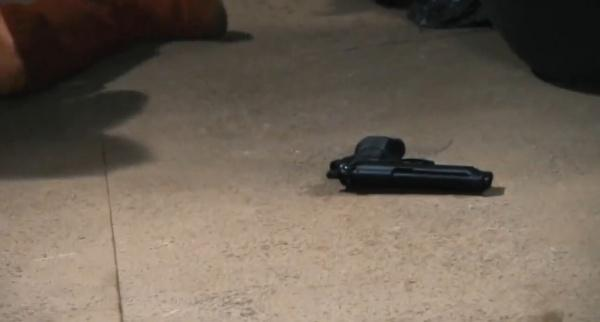Gun: (326, 134, 495, 197)
